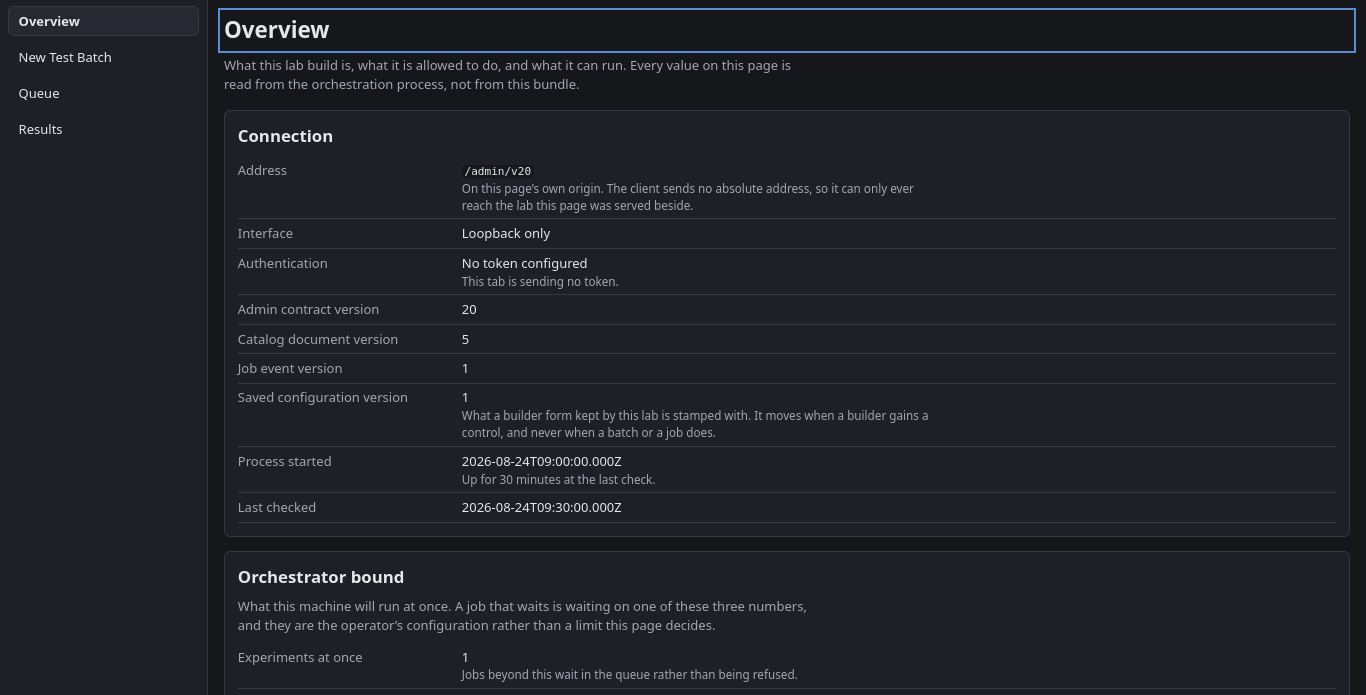
Test case: the content the form offers › shows a precon this environment refuses, disabled, with the reason
Check: the heading "Overview" is shown, box [224,14,330,45]
Click the button "New Test Batch" at (104, 57), box [8,42,199,72]
(page scrolled)
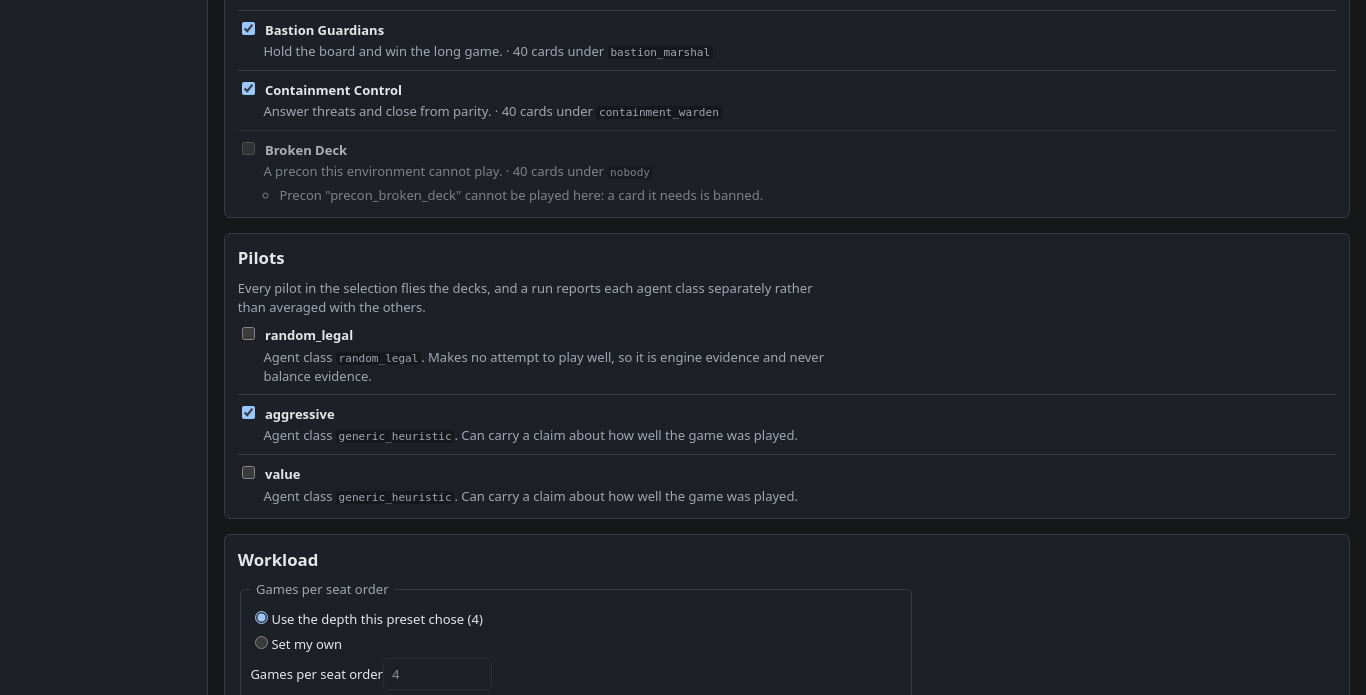
Check: the checkbox labelled "Broken Deck" is disabled, box [242,142,255,155]
Check: the checkbox labelled "Broken Deck" is not checked, box [242,142,255,155]
